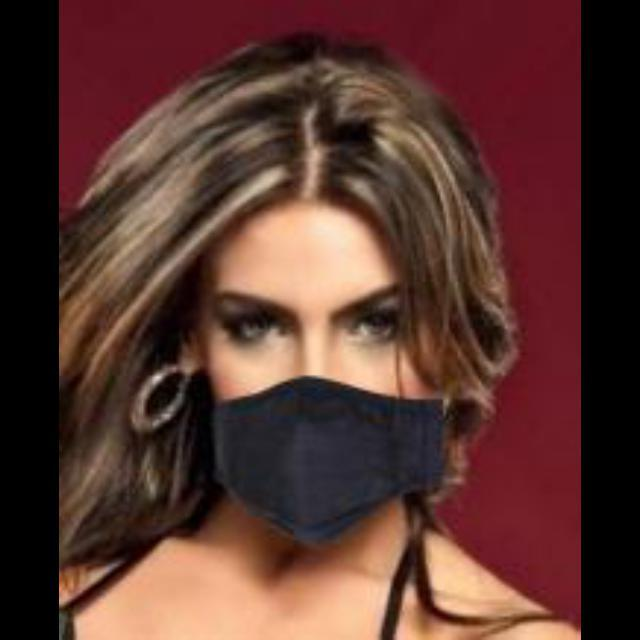suspicion: (61, 18, 516, 572)
